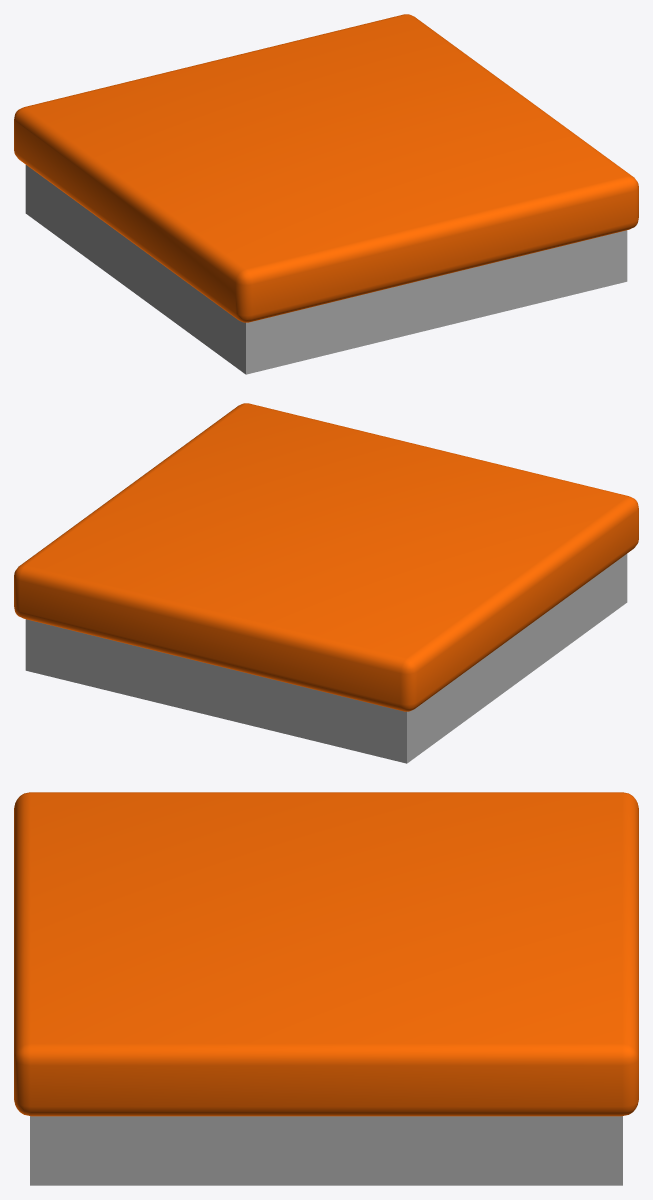
Rendered from Base 1 Low White Orange.glb.
3 renders of one model, top to bottom at view 1: azimuth 30°, elevation 25°; view 2: azimuth 150°, elevation 25°; view 3: azimuth 270°, elevation 25°, orthographic. The views are drawn at different scales.
Visible parts, largest first — view 1: Base_1_Low_White_; view 2: Base_1_Low_White_; view 3: Base_1_Low_White_.
Boxes of the visible parts, left/top/right/bottom form: Base_1_Low_White_: left=14, top=14, right=638, bottom=374; Base_1_Low_White_: left=14, top=403, right=638, bottom=763; Base_1_Low_White_: left=14, top=792, right=638, bottom=1185.
Bounding box in the file's own units: 7.98 × 2 × 7.98.
